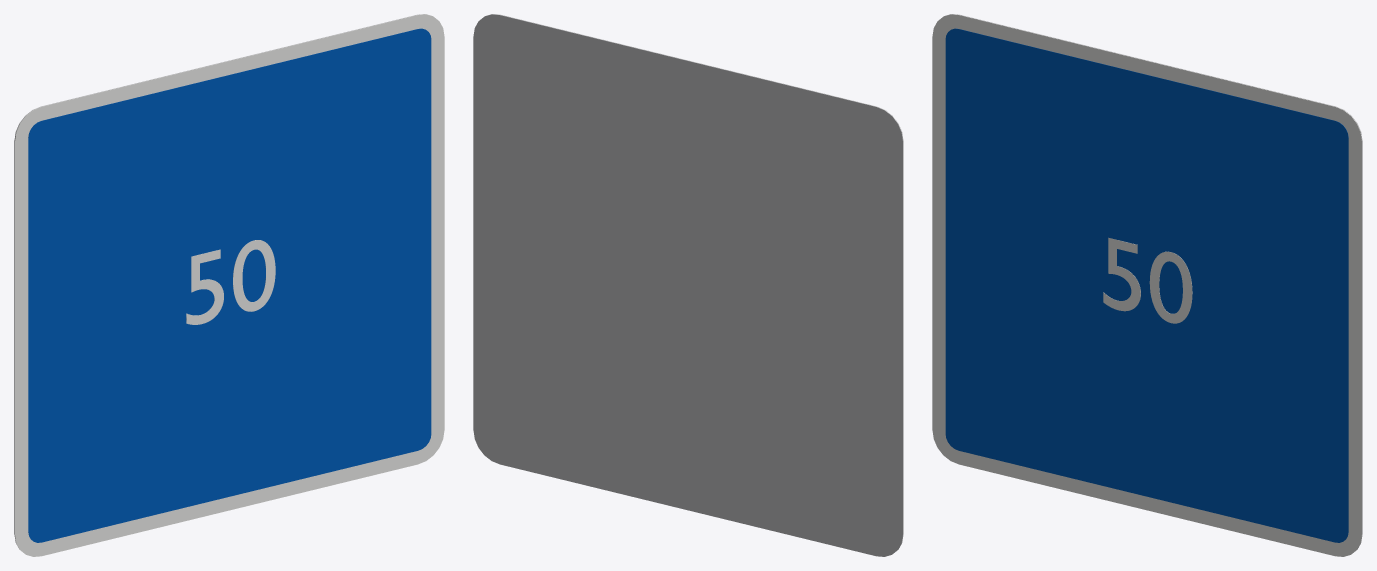
3 views of the same model, side by side, from view 1: azimuth 30°, elevation 25°; view 2: azimuth 150°, elevation 25°; view 3: azimuth 330°, elevation 25° (orthographic).
Parts seen in each view (by area): view 1: C4a_fond01, C4a_cadre00, C4a_txt02, C4a_dos; view 2: C4a_dos, C4a_cadre00; view 3: C4a_fond01, C4a_cadre00, C4a_txt02, C4a_dos.
Part boxes in pixels (x1,y1,x2,y2): C4a_fond01: (28,28,431,542); C4a_cadre00: (15,14,444,556); C4a_txt02: (186,240,275,324); C4a_dos: (14,14,432,549); C4a_dos: (473,14,903,556); C4a_cadre00: (493,14,903,547); C4a_fond01: (945,28,1348,542); C4a_cadre00: (932,14,1361,556); C4a_txt02: (1103,237,1192,323); C4a_dos: (944,14,1362,549).
Bounding box in the file's own units: 0.65 × 0.65 × 0.0025.
